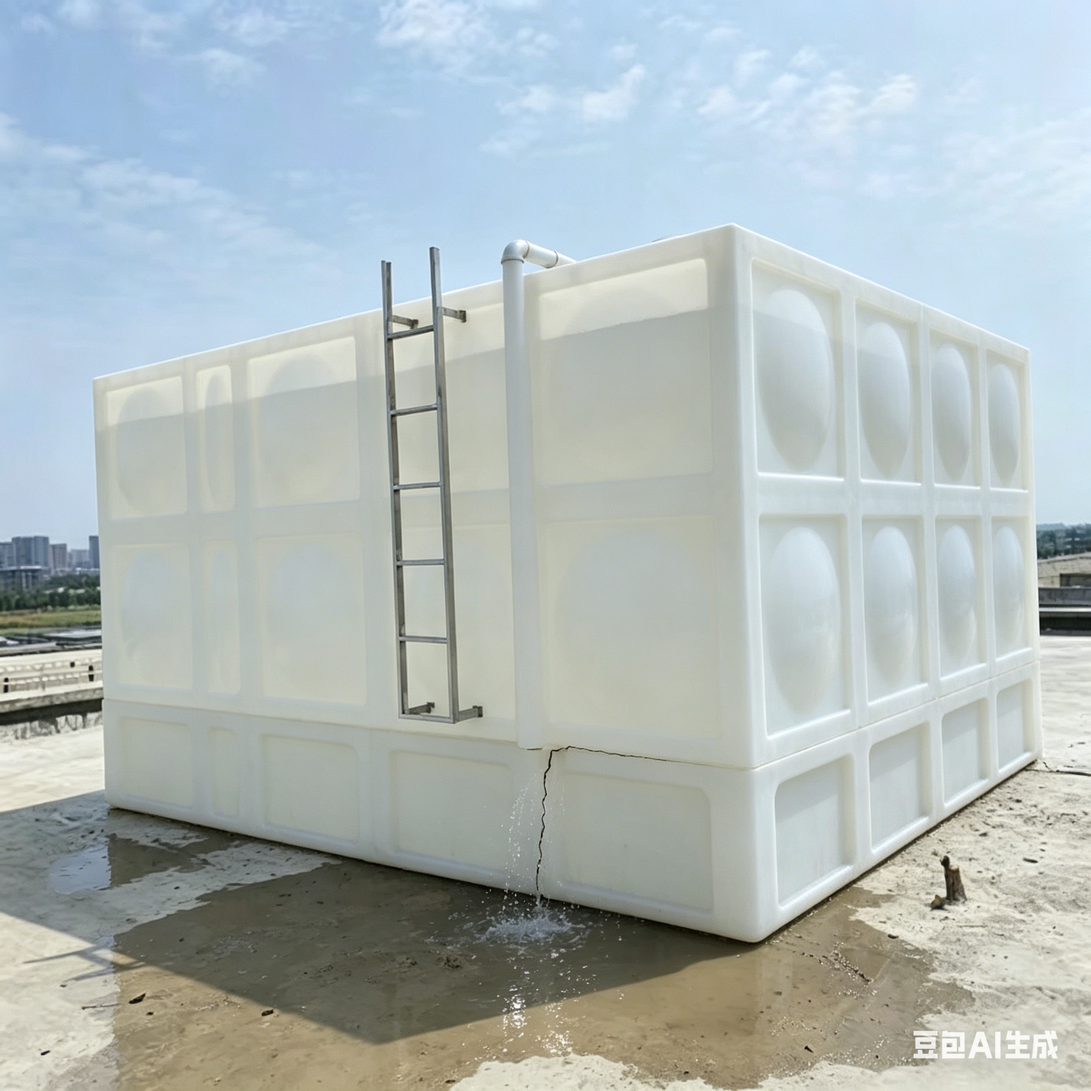Leakage: (140, 921, 945, 1081), (245, 834, 600, 923), (469, 662, 568, 838), (50, 830, 166, 896)
